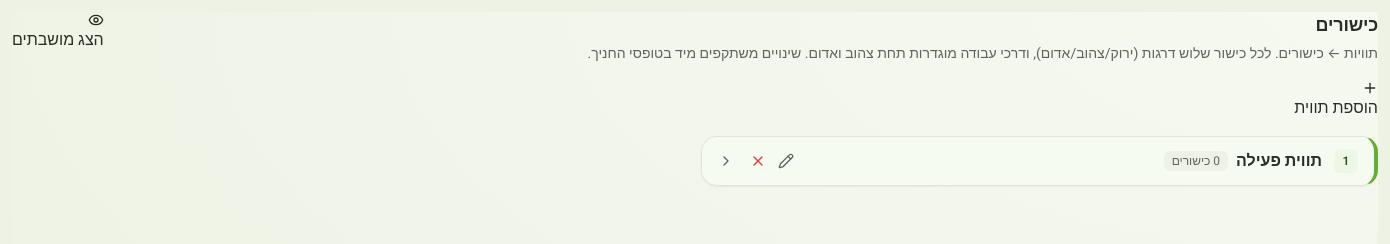
TaxonomyArea — reactivation › hides the disabled sections until 'show disabled' is toggled on
This screenshot has width=1390, height=244.
Check: the text "תווית פעילה" is shown, box [1236,149,1322,173]
Check: the button "תוויות מושבתות" is not shown
Click the button "הצג מושבתים" at (58, 32), box [12,12,104,52]
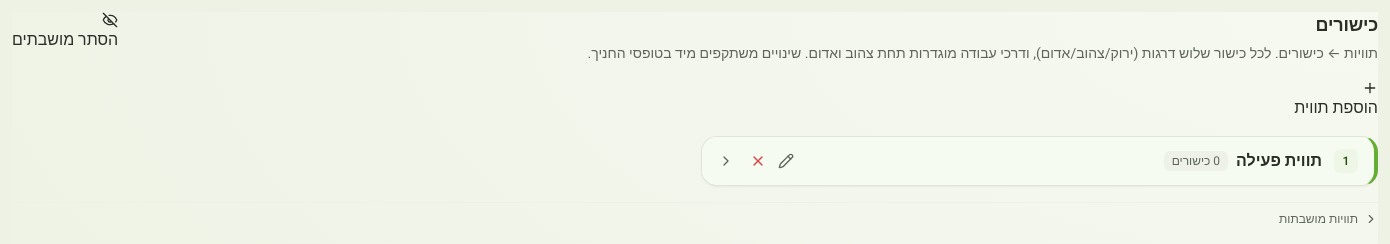
Check: the button "תוויות מושבתות" is shown, box [1279,211,1378,227]
